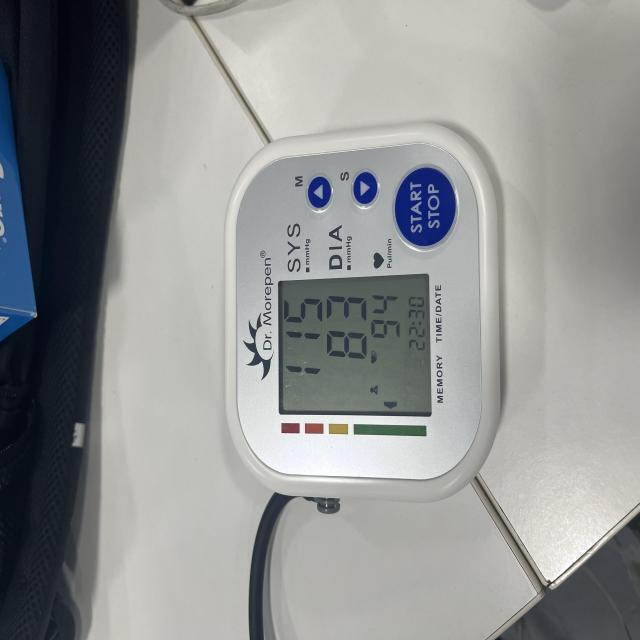bp: (221, 121, 504, 503)
